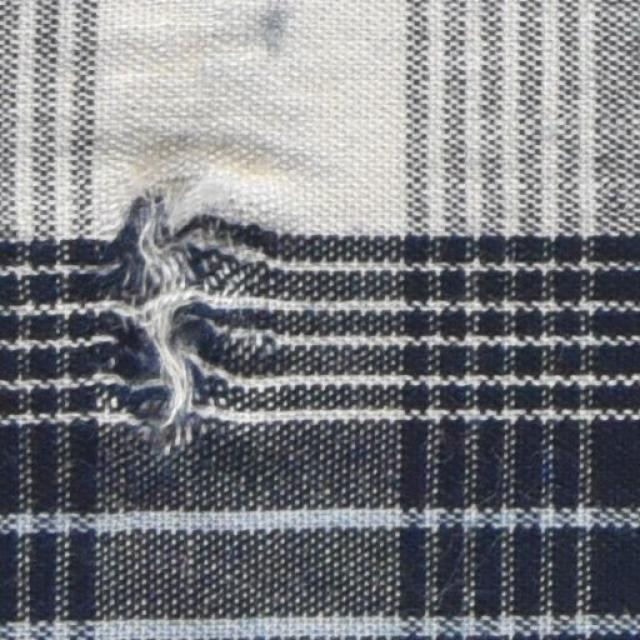Snag: (88, 190, 222, 454)
